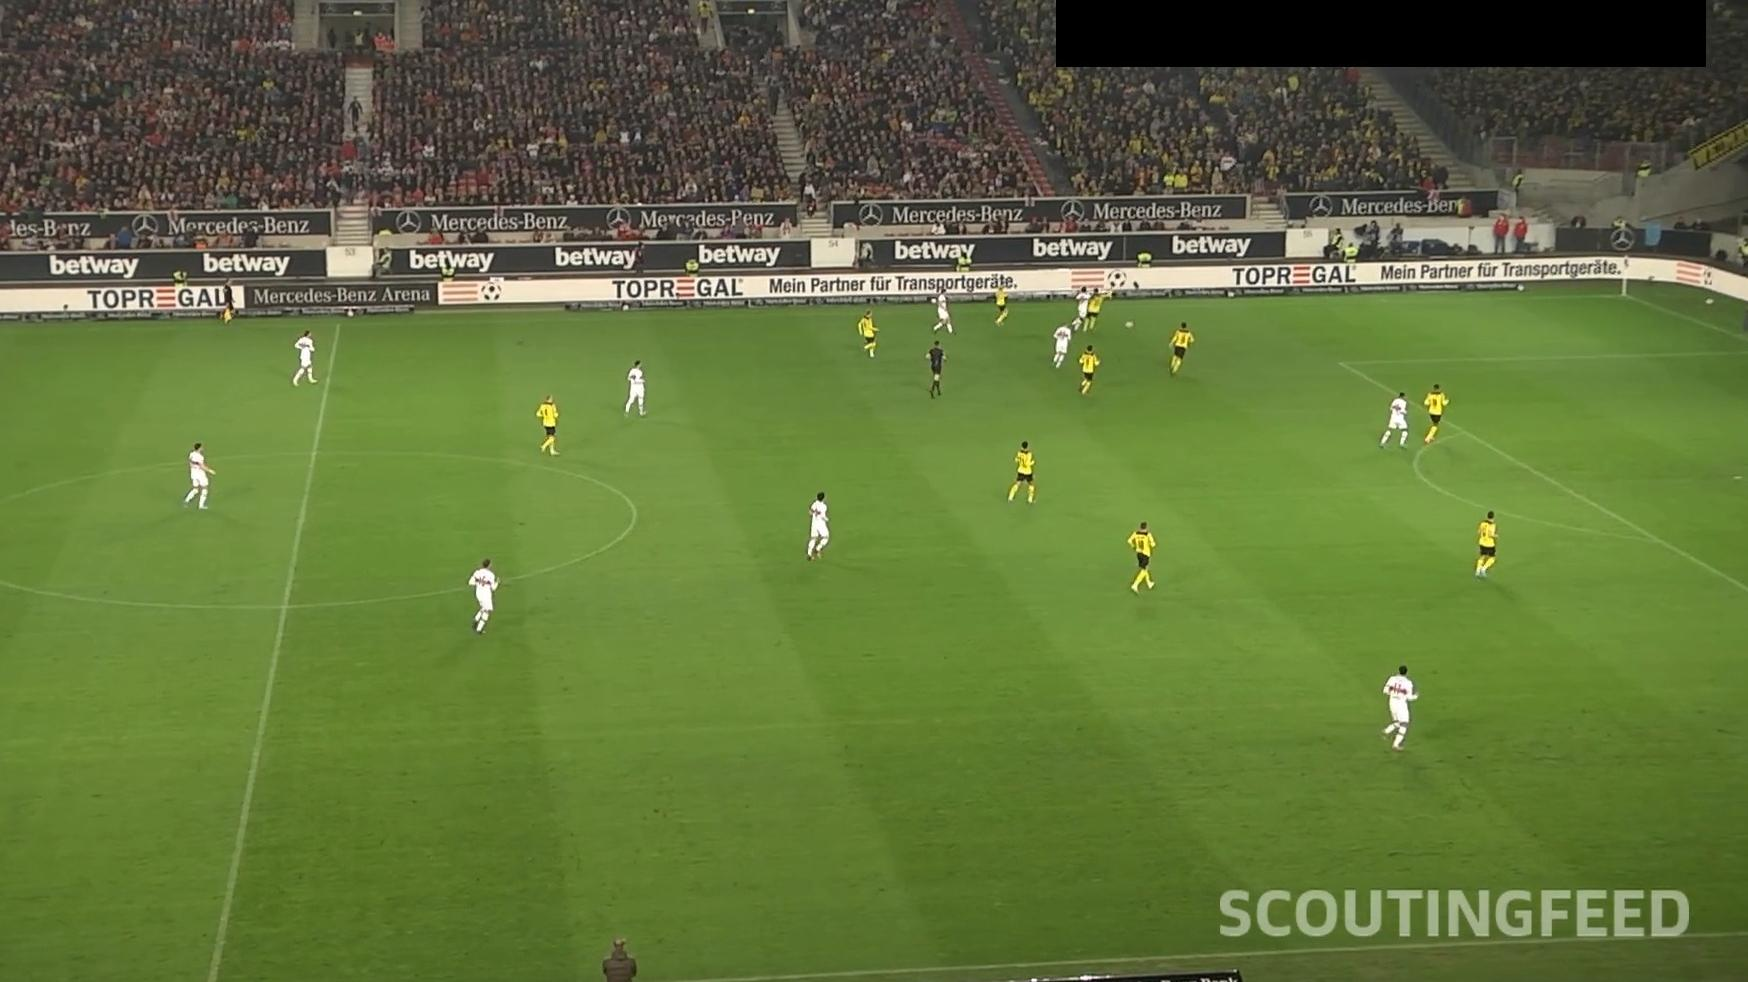ball: (1125, 319, 1135, 330)
